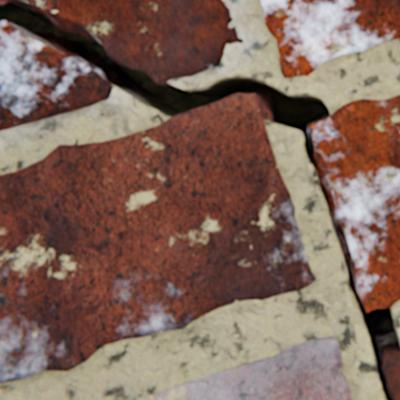brick: (0, 94, 315, 381), (310, 95, 399, 311), (134, 335, 351, 399), (261, 0, 399, 78), (381, 349, 399, 399)
broken_brick: (26, 0, 243, 85), (0, 20, 113, 130), (0, 0, 12, 5)
crack: (0, 0, 399, 399)
